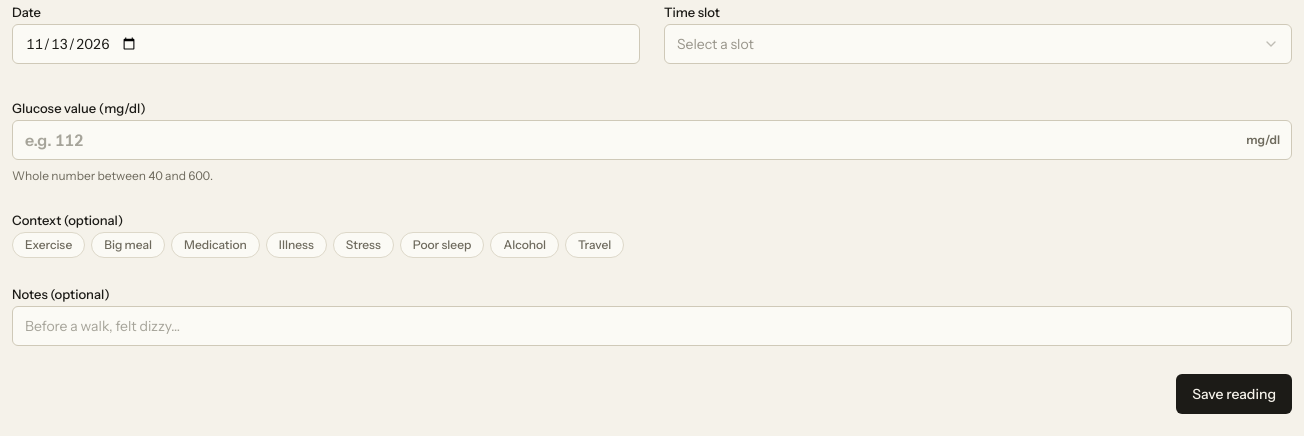
Scenario: ReadingForm › rejects 39 mg/dl as out of range
Click the dropdown named "time slot": (715,44) [664, 24, 1292, 64]
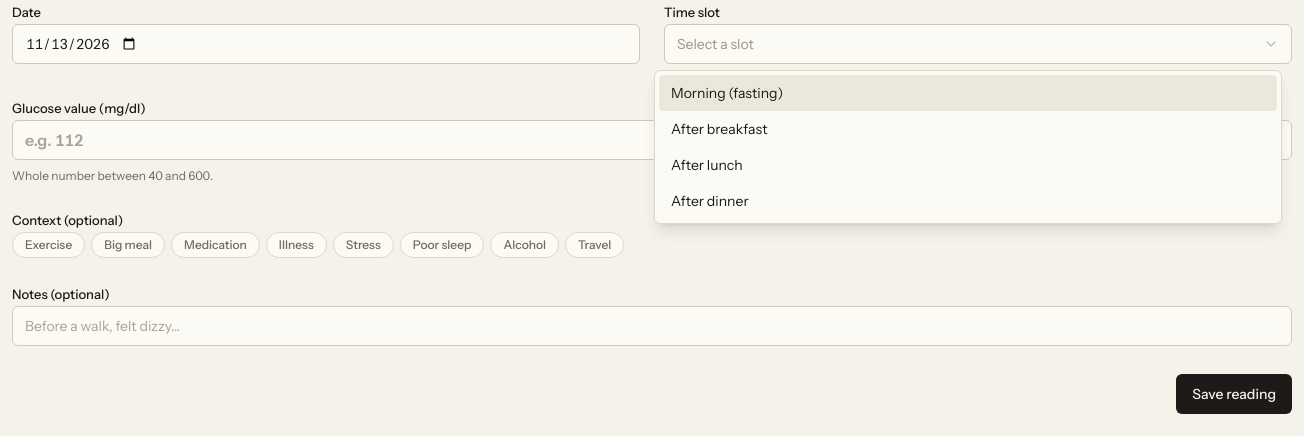
Click the option "Morning (fasting)": (727,93) [659, 75, 1277, 111]
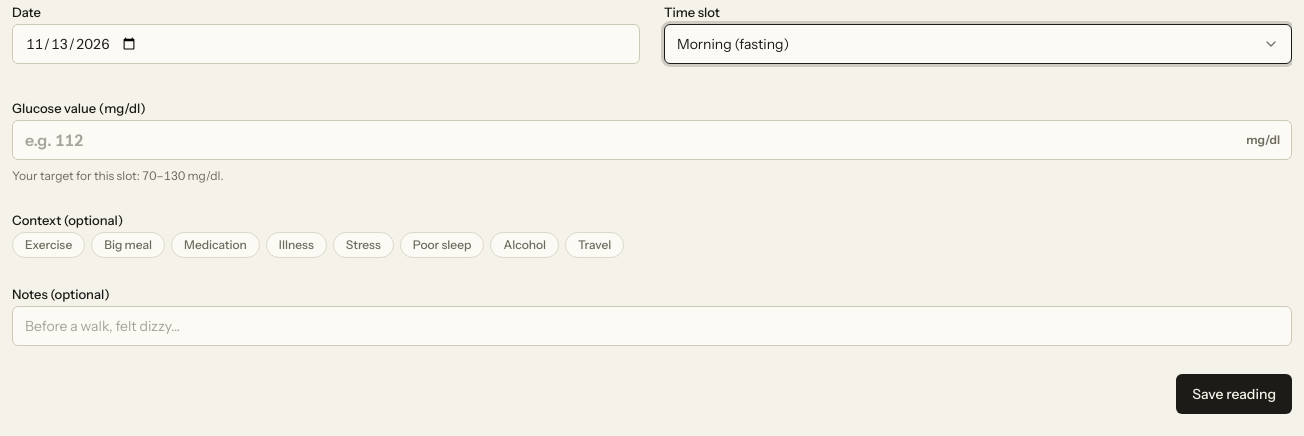
In the field labelled "Glucose value (mg/dl)": (652,140) [12, 120, 1292, 160], type "39"
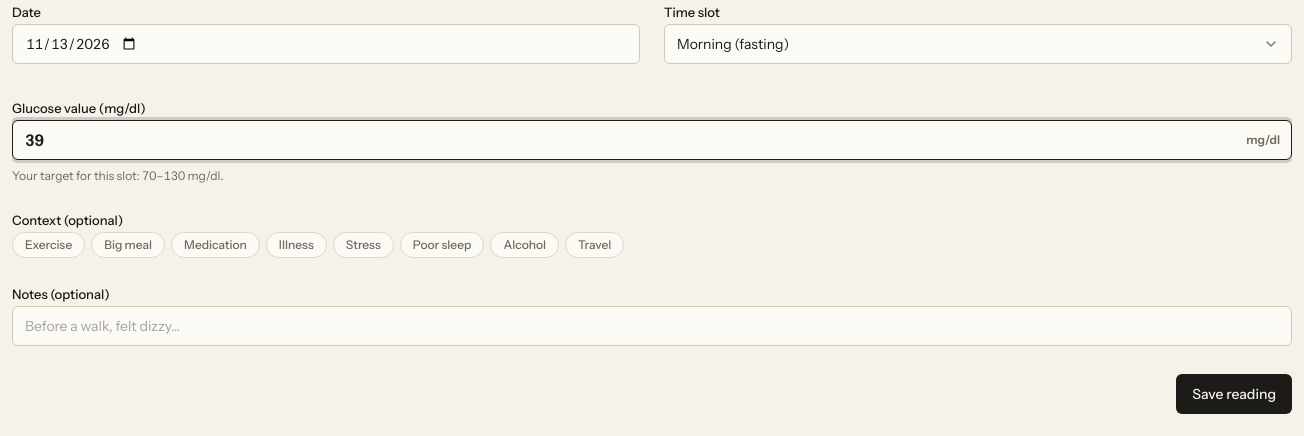
Click the button "Save reading": (1234,394) [1176, 374, 1292, 414]
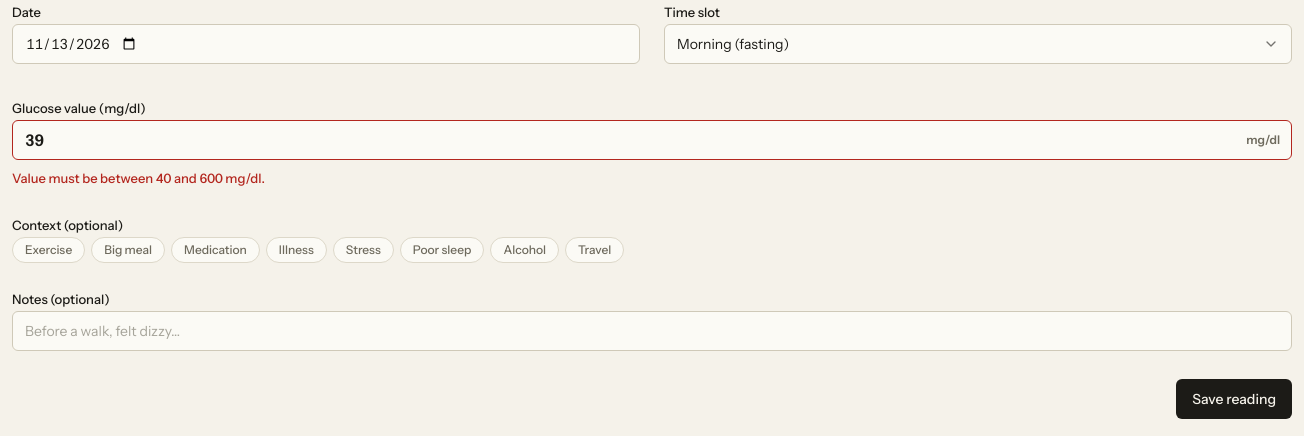
Expected: the text "Value must be between 40 and 600 mg/dl." is shown, [12, 170, 265, 186]
